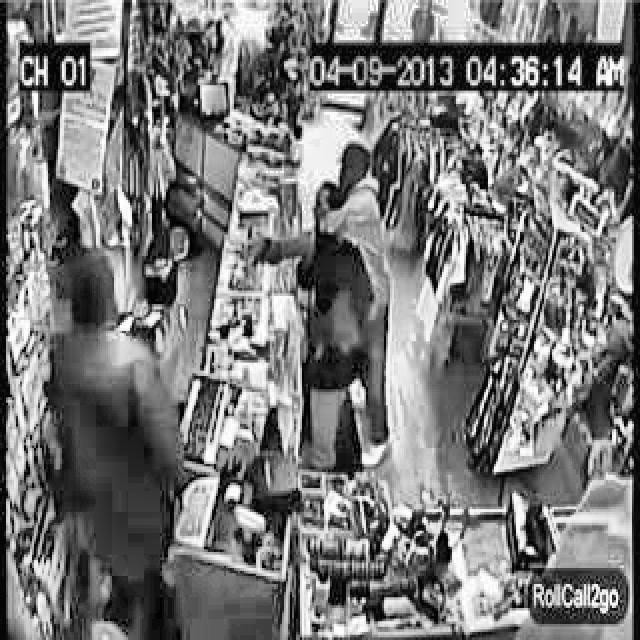robbery: (246, 140, 394, 470)
